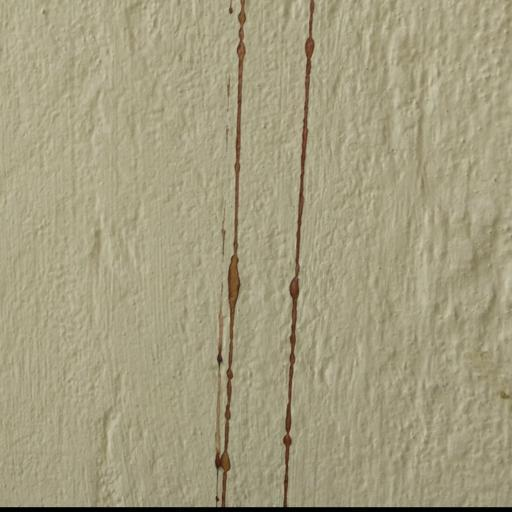stain: (188, 0, 322, 509)
